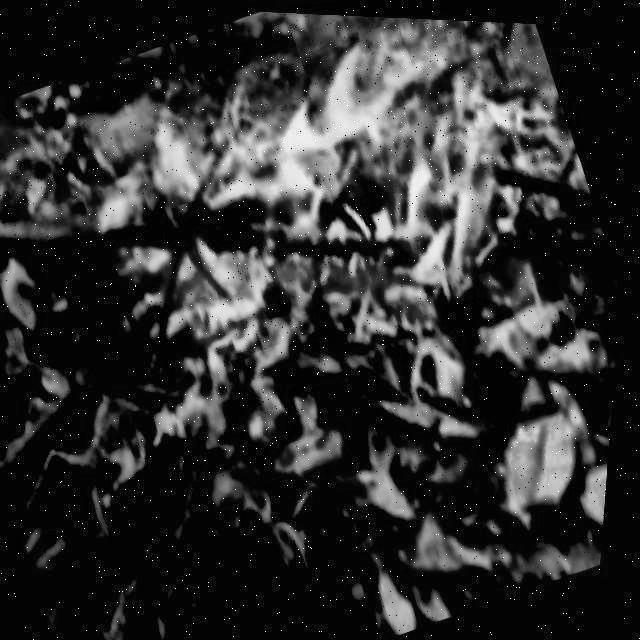Fire: (62, 3, 581, 414)
